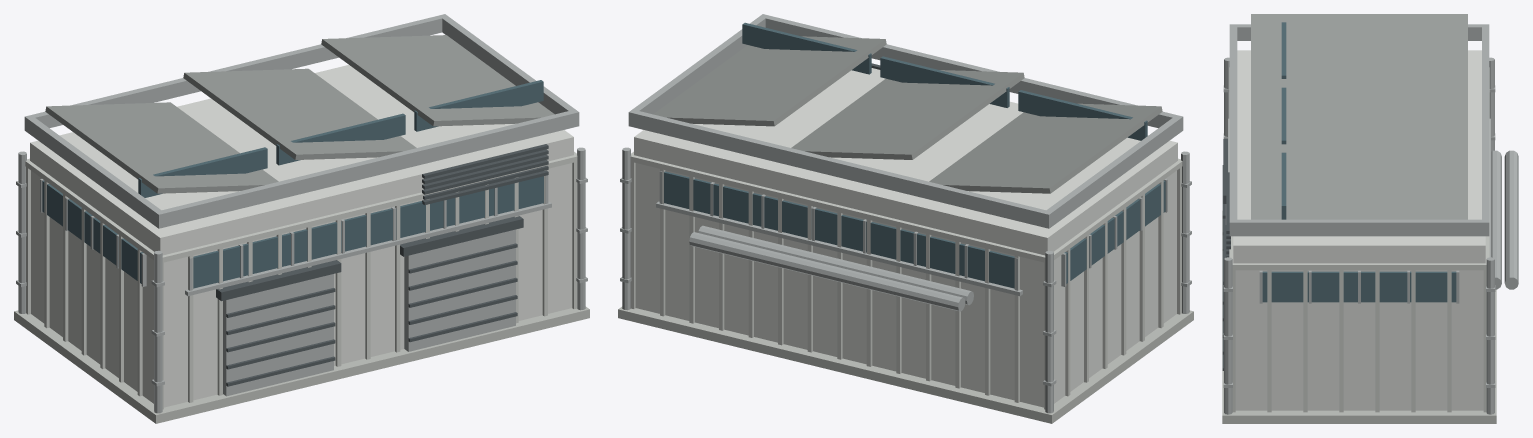
The model's file is workshop.glb.
3 views of the same model, side by side, from view 1: azimuth 30°, elevation 25°; view 2: azimuth 150°, elevation 25°; view 3: azimuth 270°, elevation 25° (orthographic). The views are drawn at different scales.
Visible parts, largest first — view 1: workshop; view 2: workshop; view 3: workshop.
Part boxes in pixels (x1,y1,x2,y2): workshop: (14, 14, 589, 423); workshop: (618, 14, 1193, 423); workshop: (1222, 14, 1518, 423).
Bounding box in the file's own units: 5.19 × 2.52 × 3.17.
